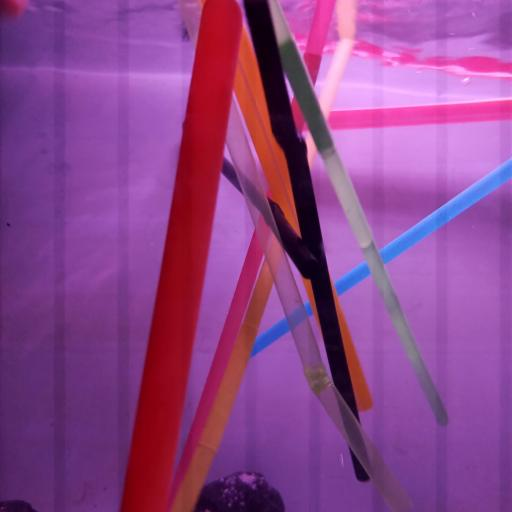plastic_straw: (171, 0, 329, 512), (184, 42, 352, 512), (271, 0, 453, 433), (226, 98, 415, 512), (118, 0, 245, 512), (245, 0, 371, 480), (233, 41, 373, 420), (250, 159, 512, 357), (221, 159, 318, 281), (290, 94, 512, 135)
